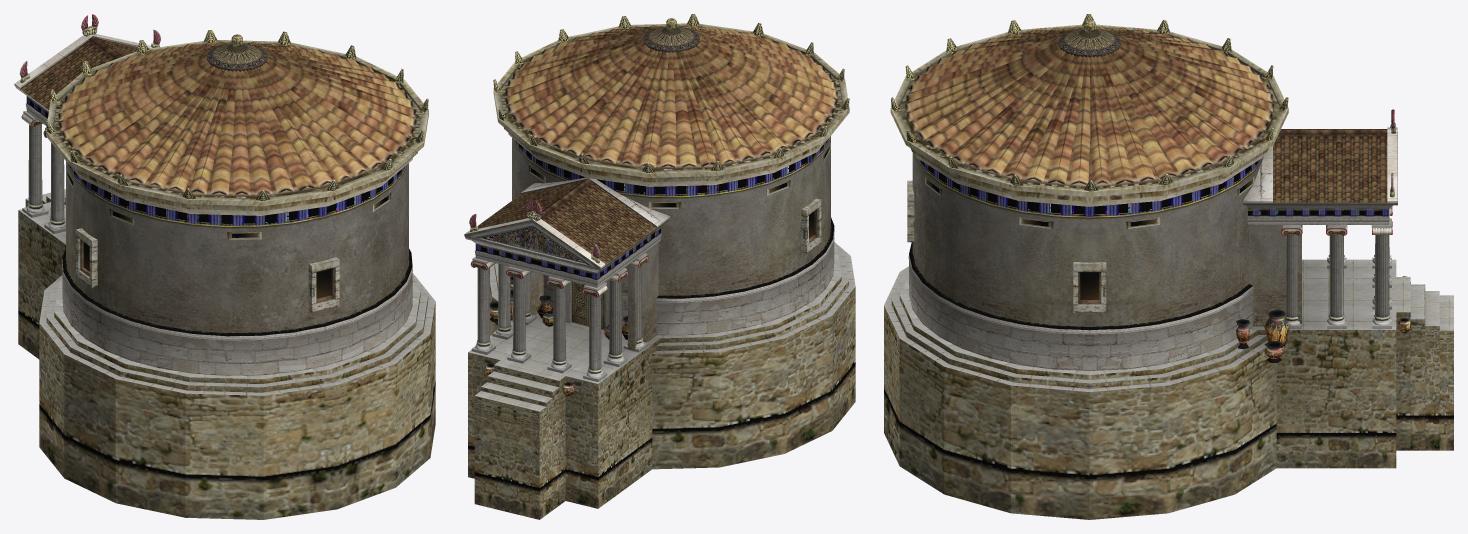
Rendered from prytaneion.glb.
The picture shows the model from 3 angles, left to right: view 1: azimuth 30°, elevation 25°; view 2: azimuth 150°, elevation 25°; view 3: azimuth 270°, elevation 25°; orthographic projection. The views are drawn at different scales.
Visible parts, largest first — view 1: prytaneion_part0, prytaneion_part2, prytaneion_part1, prytaneion_part4; view 2: prytaneion_part0, prytaneion_part2, prytaneion_part1, prytaneion_part4, prytaneion_part3; view 3: prytaneion_part0, prytaneion_part2, prytaneion_part4, prytaneion_part1.
Boxes of the visible parts, x1=… form: prytaneion_part0: x1=18, y1=40, x2=435, y2=519; prytaneion_part2: x1=14, y1=34, x2=412, y2=375; prytaneion_part1: x1=19, y1=14, x2=428, y2=312; prytaneion_part4: x1=19, y1=110, x2=435, y2=395; prytaneion_part0: x1=468, y1=23, x2=855, y2=519; prytaneion_part2: x1=464, y1=136, x2=834, y2=377; prytaneion_part1: x1=469, y1=14, x2=849, y2=395; prytaneion_part4: x1=468, y1=242, x2=855, y2=411; prytaneion_part3: x1=470, y1=256, x2=648, y2=297; prytaneion_part0: x1=884, y1=24, x2=1453, y2=519; prytaneion_part2: x1=908, y1=127, x2=1397, y2=370; prytaneion_part4: x1=884, y1=206, x2=1453, y2=391; prytaneion_part1: x1=891, y1=14, x2=1411, y2=362.
Bounding box in the file's own units: 3.61 × 4 × 5.
5 materials, 5 textured.
